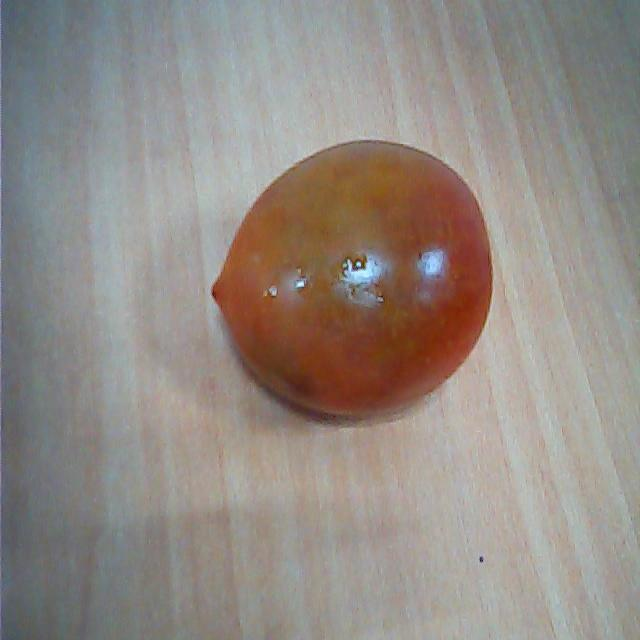verde: (208, 126, 497, 421)
